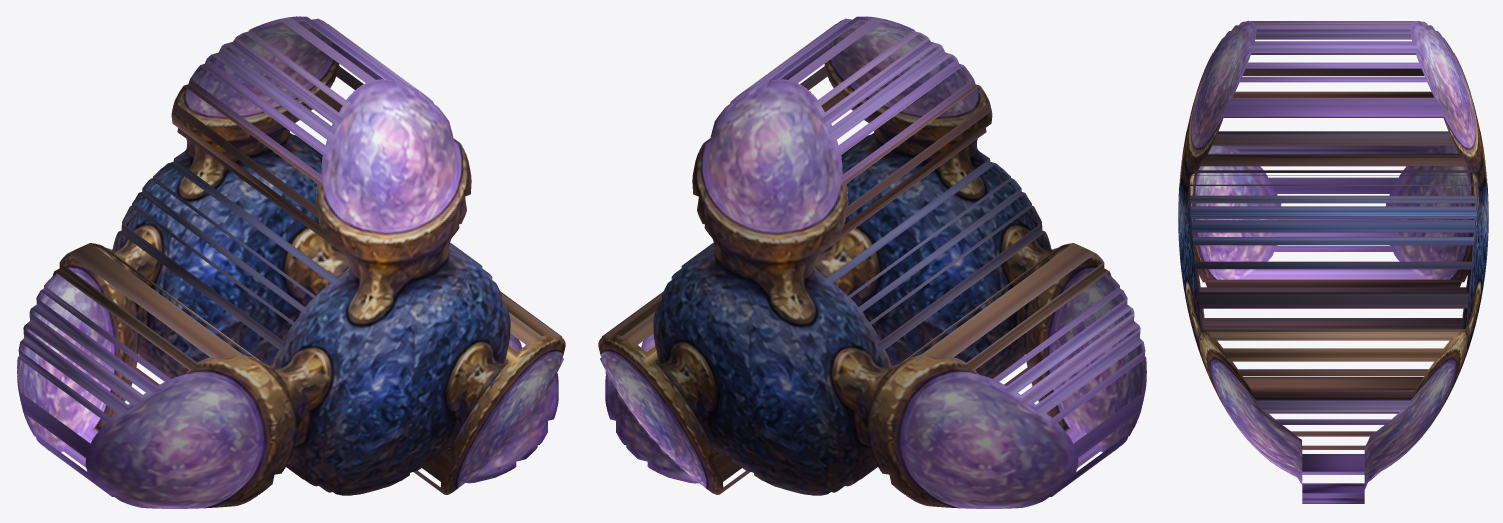
3 views of the same model, side by side, from view 1: azimuth 30°, elevation 25°; view 2: azimuth 150°, elevation 25°; view 3: azimuth 270°, elevation 25° (orthographic). The views are drawn at different scales.
Parts seen in each view (by area): view 1: matter:3; view 2: matter:3; view 3: matter:3.
Part boxes in pixels (box(x1,y1,x2,y2)): matter:3: box(17, 16, 565, 508); matter:3: box(598, 16, 1146, 508); matter:3: box(1178, 20, 1488, 503).
Size of the model in its own units: 1.07 by 0.9535 by 0.6599.
Materials: 1 (1 with a texture image).
